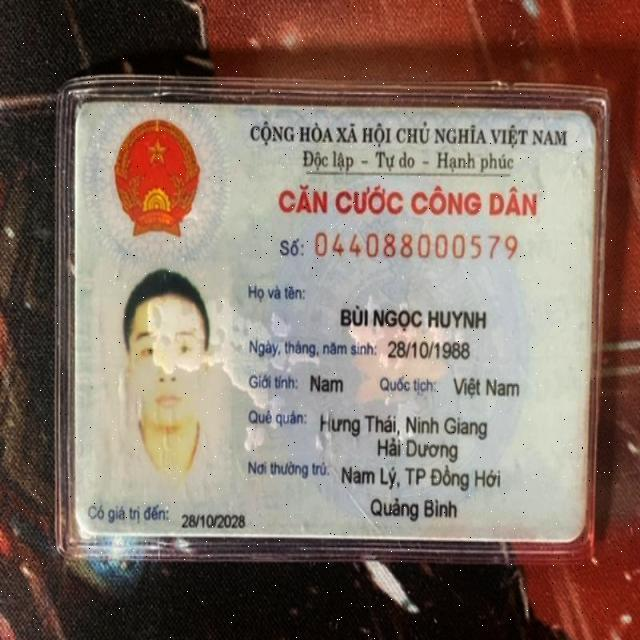current_place: (340, 464, 502, 492), (369, 494, 462, 522)
dob: (384, 336, 483, 362)
expire_date: (181, 509, 248, 534)
gender: (307, 371, 352, 396)
id: (312, 230, 523, 263)
name: (334, 299, 489, 335)
nationality: (446, 374, 532, 405)
origin_place: (317, 410, 494, 441), (373, 435, 460, 463)
